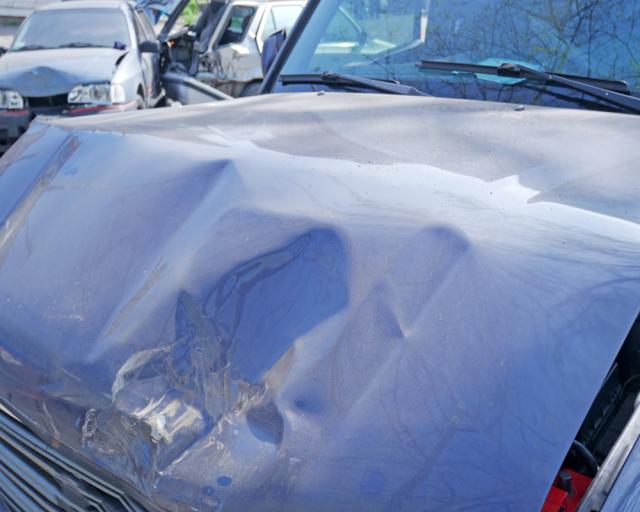dent: (51, 157, 482, 512), (11, 65, 85, 99)
